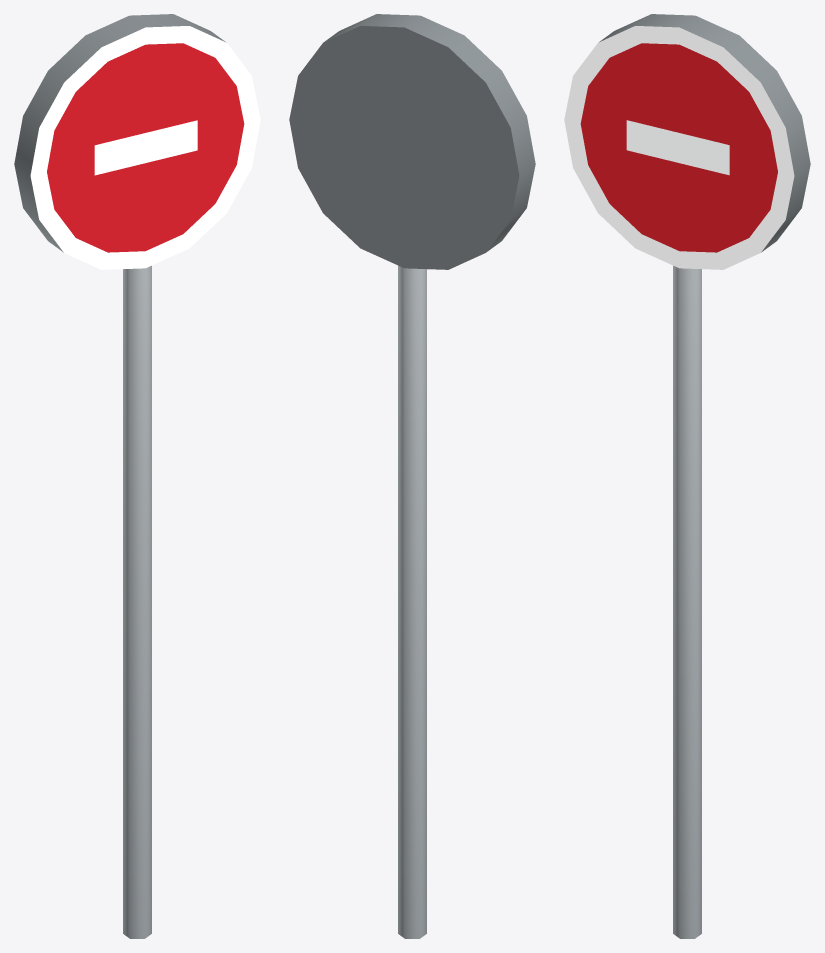
The model's file is Road_Sign_04.glb.
3 views of the same model, side by side, from view 1: azimuth 30°, elevation 25°; view 2: azimuth 150°, elevation 25°; view 3: azimuth 330°, elevation 25° (orthographic).
Parts seen in each view (by area): view 1: Road_Sign_04; view 2: Road_Sign_04; view 3: Road_Sign_04.
Boxes of the visible parts, bbox=[...] form: Road_Sign_04: bbox=[14, 14, 260, 938]; Road_Sign_04: bbox=[289, 14, 535, 938]; Road_Sign_04: bbox=[564, 14, 810, 938].
Size of the model in its own units: 0.7311 by 2.77 by 0.0938.
1 material, 1 textured.
